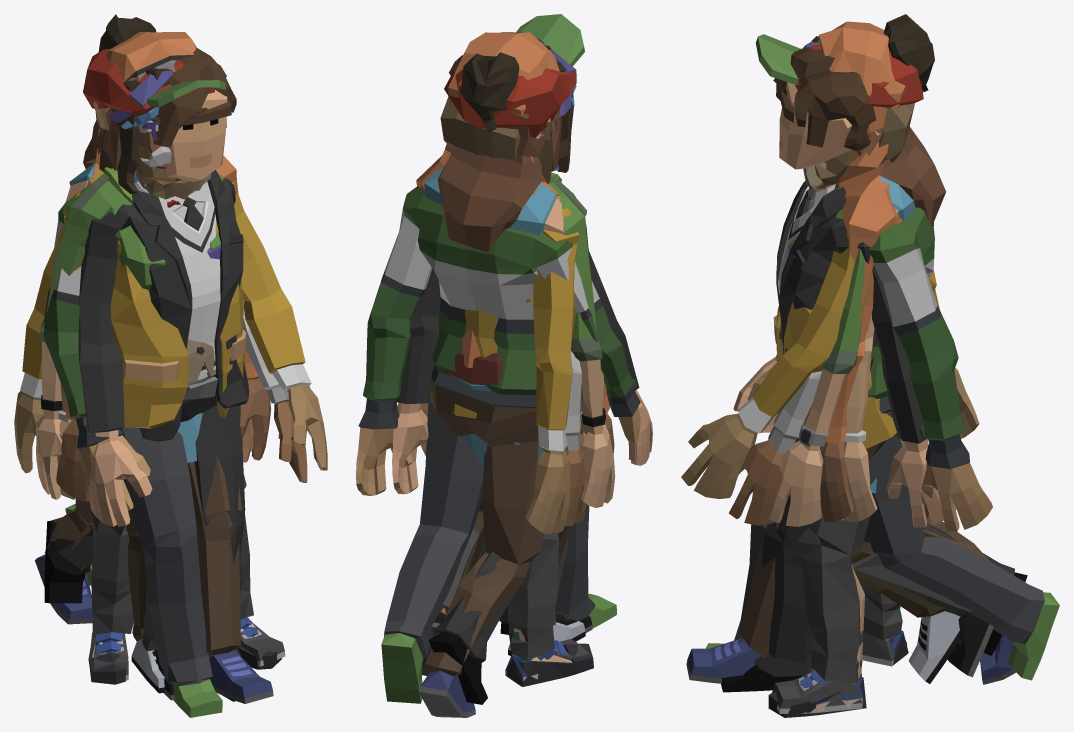
File: human-characters-poses-1.glb
3 views of the same model, side by side, from view 1: azimuth 30°, elevation 25°; view 2: azimuth 150°, elevation 25°; view 3: azimuth 270°, elevation 25° (orthographic). The views are drawn at different scales.
Parts seen in each view (by area): view 1: Character_1, Character_5, Character_6, Character_4, Character_7, Character_2, Character_3, Character_8; view 2: Character_6, Character_5, Character_3, Character_1, Character_4, Character_2, Character_7, Character_8; view 3: Character_1, Character_5, Character_4, Character_6, Character_7, Character_2, Character_3, Character_8.
Part boxes in pixels (x1,y1,x2,y2): Character_1: (44, 48, 249, 701); Character_5: (14, 120, 327, 717); Character_6: (35, 172, 273, 703); Character_4: (56, 32, 285, 680); Character_7: (36, 70, 280, 693); Character_2: (83, 48, 307, 700); Character_3: (57, 71, 281, 684); Character_8: (94, 14, 258, 654); Character_6: (356, 96, 640, 717); Character_5: (381, 121, 616, 703); Character_3: (397, 69, 608, 686); Character_1: (392, 32, 652, 704); Character_4: (416, 14, 614, 686); Character_2: (422, 60, 592, 675); Character_7: (460, 41, 615, 655); Character_8: (421, 45, 586, 680); Character_1: (721, 47, 1027, 692); Character_5: (681, 233, 1059, 680); Character_4: (755, 21, 906, 713); Character_6: (686, 103, 1015, 684); Character_7: (769, 41, 960, 683); Character_2: (728, 45, 993, 677); Character_3: (768, 126, 945, 717); Character_8: (799, 14, 934, 712).
Size of the model in its own units: 0.6965 by 1.89 by 0.9805.
Materials: 1 (1 with a texture image).
